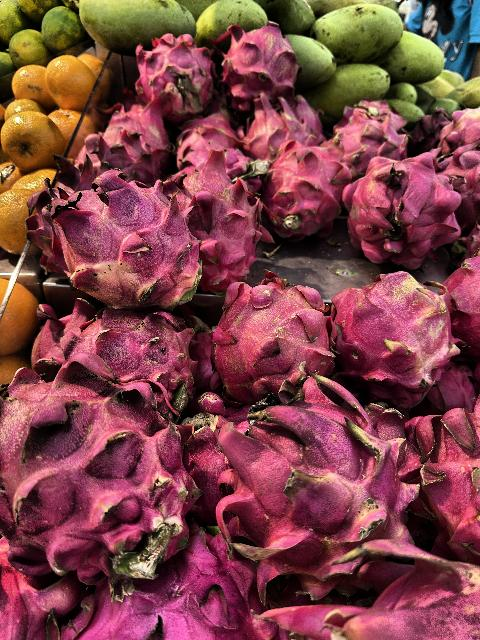buah-naga-belum-matang: (47, 162, 196, 308), (333, 263, 455, 402)
buah-naga-matang: (208, 382, 416, 564), (0, 362, 182, 564), (280, 530, 480, 640), (76, 530, 262, 640), (25, 294, 199, 406), (209, 272, 329, 392), (346, 152, 460, 270), (406, 384, 480, 556), (176, 156, 262, 280), (268, 134, 348, 230), (216, 19, 302, 99), (130, 37, 216, 111), (90, 100, 166, 174), (428, 107, 480, 211), (170, 100, 237, 172), (337, 90, 405, 154), (243, 100, 319, 146)
